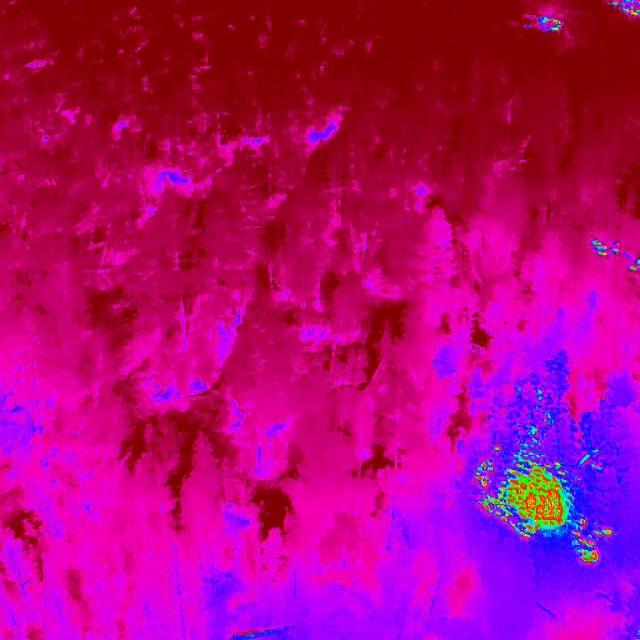fire: (471, 429, 614, 569), (592, 236, 640, 273), (538, 13, 568, 35), (608, 0, 640, 18)
